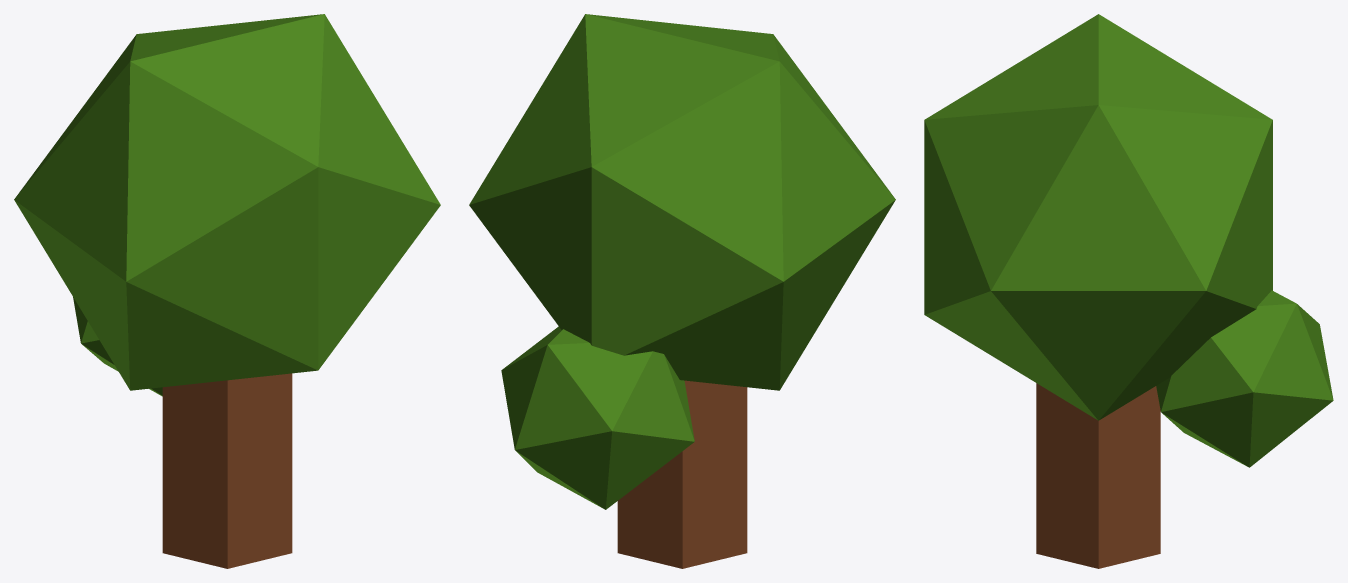
File: tree_oak.fbx
3 renders of one model, left to right at view 1: azimuth 30°, elevation 25°; view 2: azimuth 150°, elevation 25°; view 3: azimuth 270°, elevation 25°, orthographic. The views are drawn at different scales.
Parts seen in each view (by area): view 1: Platonic, Cylinder, Platonic_1; view 2: Platonic, Platonic_1, Cylinder; view 3: Platonic, Cylinder, Platonic_1.
Boxes of the visible parts, x1,y1,x2,y2 form: Platonic: (14,14,440,390); Cylinder: (162,373,292,568); Platonic_1: (73,297,162,396); Platonic: (469,14,895,390); Platonic_1: (501,326,694,509); Cylinder: (617,380,747,568); Platonic: (924,14,1272,420); Cylinder: (1036,383,1160,568); Platonic_1: (1156,290,1333,467).
Size of the model in its own units: 48.54 by 73.65 by 57.01.
